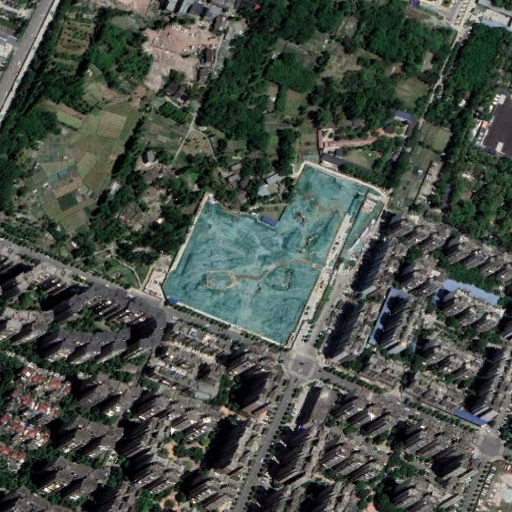cw: (162, 160, 385, 347)
